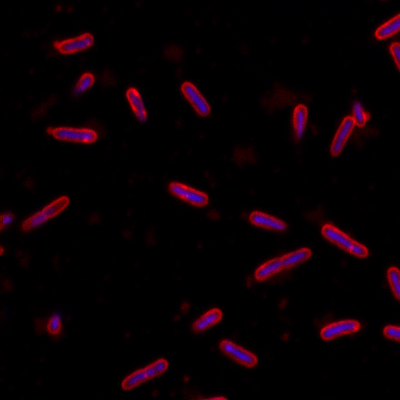Oblique: (18, 194, 73, 234), (190, 306, 225, 336), (124, 86, 150, 125), (289, 101, 311, 147), (347, 94, 370, 128), (72, 70, 99, 95), (43, 310, 62, 337)
Rifampicin: (252, 246, 313, 282), (320, 222, 369, 259), (120, 357, 170, 391), (217, 337, 262, 368), (326, 115, 356, 158), (165, 180, 210, 208), (179, 80, 211, 118), (49, 123, 98, 144), (249, 210, 291, 234), (319, 318, 361, 340), (55, 32, 95, 55)
Vesicle: (278, 329, 292, 343), (180, 373, 194, 385)
